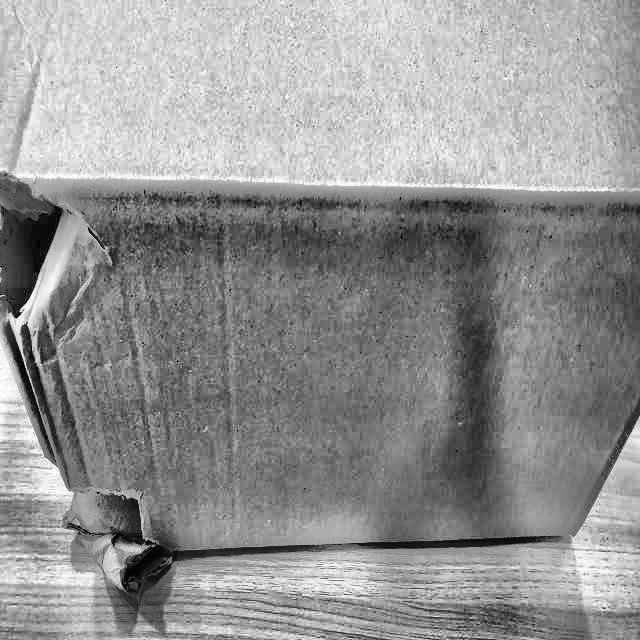box: (0, 0, 639, 575)
hole: (0, 164, 121, 344), (65, 454, 168, 593)
